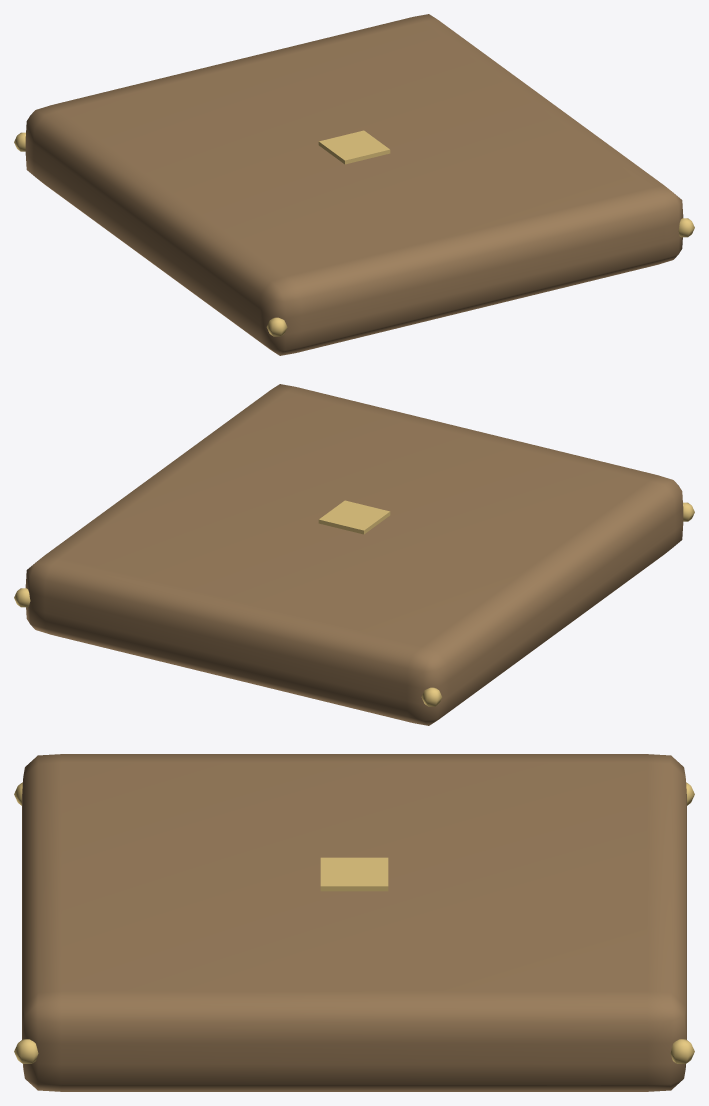
File: Zabuton_Brown.gltf
The picture shows the model from 3 angles, top to bottom: view 1: azimuth 30°, elevation 25°; view 2: azimuth 150°, elevation 25°; view 3: azimuth 270°, elevation 25°; orthographic projection. The views are drawn at different scales.
Visible parts, largest first — view 1: A_Zabuton_Brown; view 2: A_Zabuton_Brown; view 3: A_Zabuton_Brown.
Boxes of the visible parts, x1,y1,x2,y2 form: A_Zabuton_Brown: (14,14,694,355); A_Zabuton_Brown: (14,384,694,725); A_Zabuton_Brown: (14,754,694,1091).
Size of the model in its own units: 0.5608 by 0.095 by 0.604.
